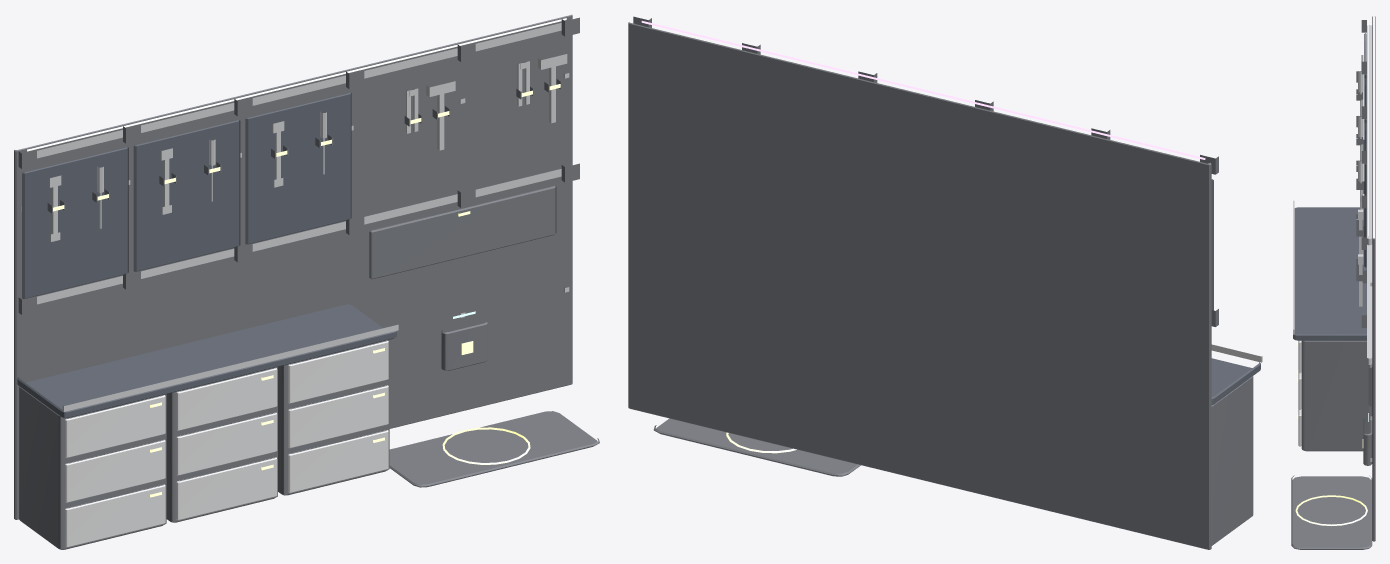
Rendered from iter_05.glb.
The picture shows the model from 3 angles, left to right: view 1: azimuth 30°, elevation 25°; view 2: azimuth 150°, elevation 25°; view 3: azimuth 270°, elevation 25°; orthographic projection. The views are drawn at different scales.
Parts seen in each view (by area): view 1: Wall_Plate, Pegboard, Drawer_Cabinet, Worktop, Fold_Shelf, Sprocket_Floor_Pad, Wall_Rail, Tools, Drawer_2_2, Drawer_2_3, Drawer_2_1, Drawer_3_3 (+10 smaller); view 2: Wall_Plate, Drawer_Cabinet, Sprocket_Floor_Pad, Accent_Strip, Worktop, Hook_Clamps; view 3: Worktop, Drawer_Cabinet, Sprocket_Floor_Pad, Wall_Rail, Wall_Plate, Tools, Hook_Clamps, Tool_Latch_Pins, Pegboard, Sprocket_Coupler, Sprocket_Pad_Ring, Worktop_Lip (+5 smaller).
Boxes of the visible parts, box(x1,y1,x2,y2) form: Wall_Plate: box(14, 14, 572, 519); Pegboard: box(22, 92, 351, 298); Drawer_Cabinet: box(19, 340, 389, 549); Worktop: box(17, 304, 396, 418); Fold_Shelf: box(369, 185, 556, 279); Sprocket_Floor_Pad: box(389, 411, 599, 487); Wall_Rail: box(37, 23, 561, 304); Tools: box(48, 54, 567, 241); Drawer_2_2: box(176, 412, 277, 475); Drawer_2_3: box(176, 367, 277, 430); Drawer_2_1: box(176, 457, 277, 520); Drawer_3_3: box(288, 340, 388, 403); Wall_Plate: box(628, 22, 1211, 549); Drawer_Cabinet: box(1211, 376, 1253, 545); Sprocket_Floor_Pad: box(653, 418, 860, 476); Accent_Strip: box(641, 21, 1205, 159); Worktop: box(1211, 358, 1260, 404); Hook_Clamps: box(633, 16, 1218, 326); Worktop: box(1293, 207, 1366, 340); Drawer_Cabinet: box(1301, 340, 1372, 451); Sprocket_Floor_Pad: box(1291, 475, 1372, 549); Wall_Rail: box(1367, 25, 1372, 364); Wall_Plate: box(1372, 16, 1375, 541); Tools: box(1358, 55, 1363, 306); Hook_Clamps: box(1361, 20, 1366, 369); Tool_Latch_Pins: box(1356, 71, 1363, 281); Pegboard: box(1364, 33, 1366, 267); Sprocket_Coupler: box(1363, 418, 1372, 465); Sprocket_Pad_Ring: box(1295, 495, 1367, 525); Worktop_Lip: box(1293, 200, 1294, 334).
Size of the model in its own units: 3 by 2.01 by 0.48.
